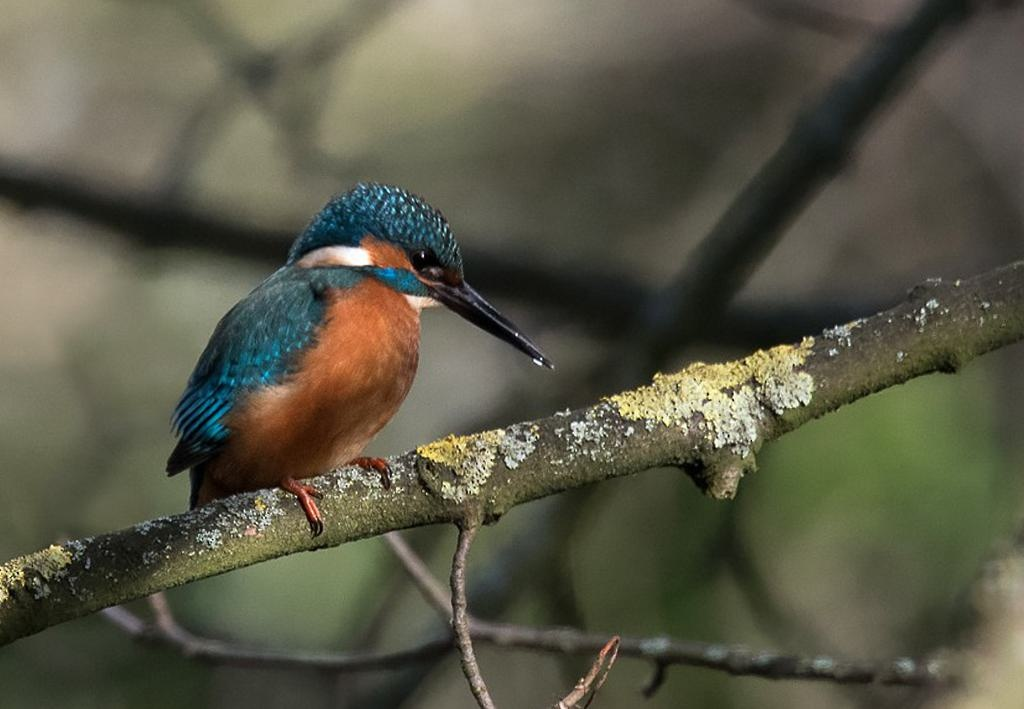kingfisher: (165, 165, 536, 508)
